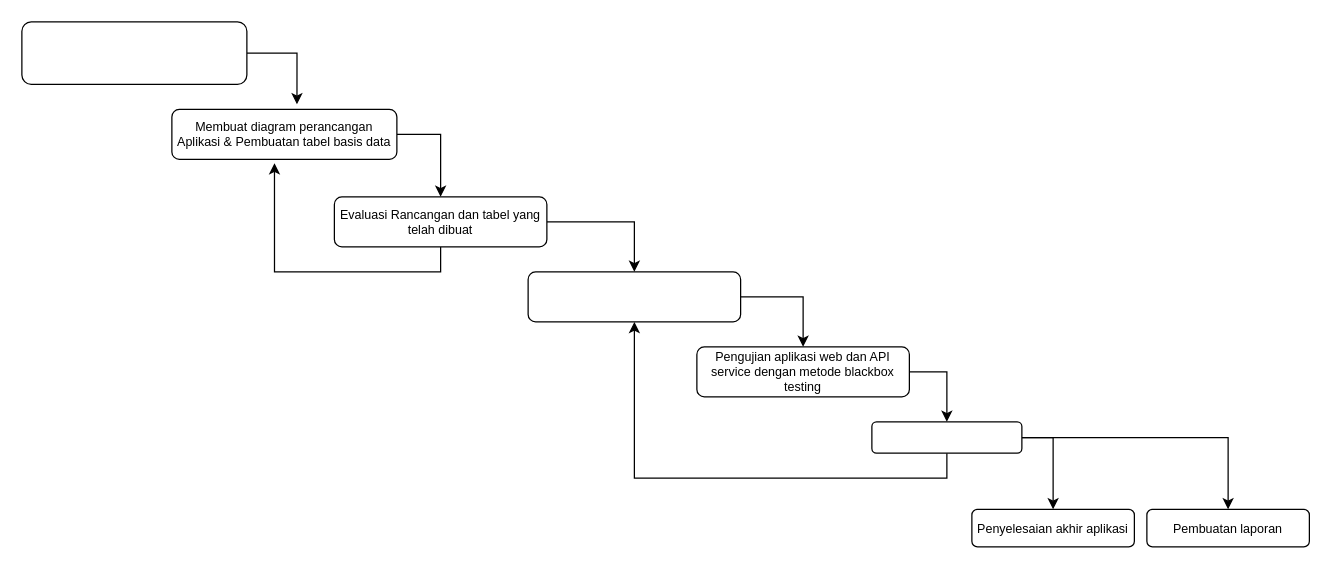
Some shapes in this 1331 by 569 pixel diagram are drawn without their labels. Each missing label, with the centre of its shape:
"Evaluasi pengujian" goes at point 946,437.
"Mengumpulkan data bahan penelitian dari Laboratorium Instrumentasi Nuklir" goes at point 134,52.
"Pengembangan Aplikasi web dengan Laravel Framework" goes at point 634,296.
